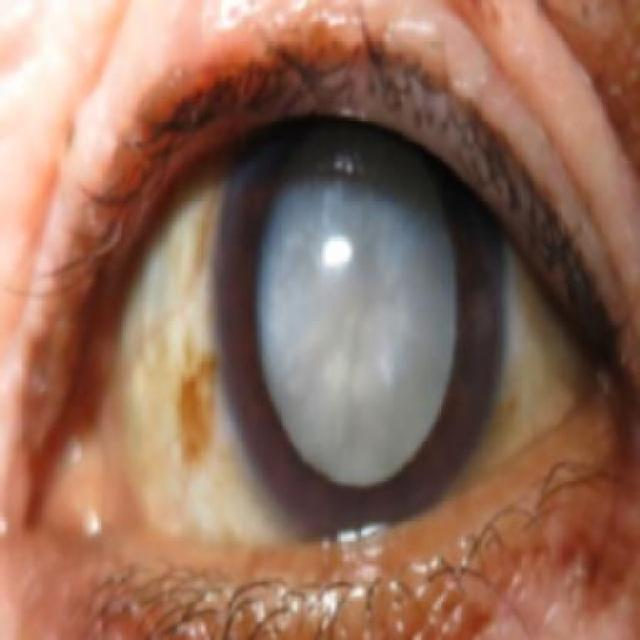Cataract: (213, 58, 504, 535)
